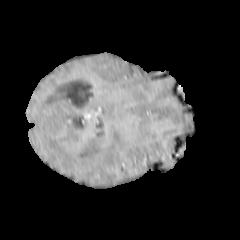glioma: (42, 108, 123, 171)
